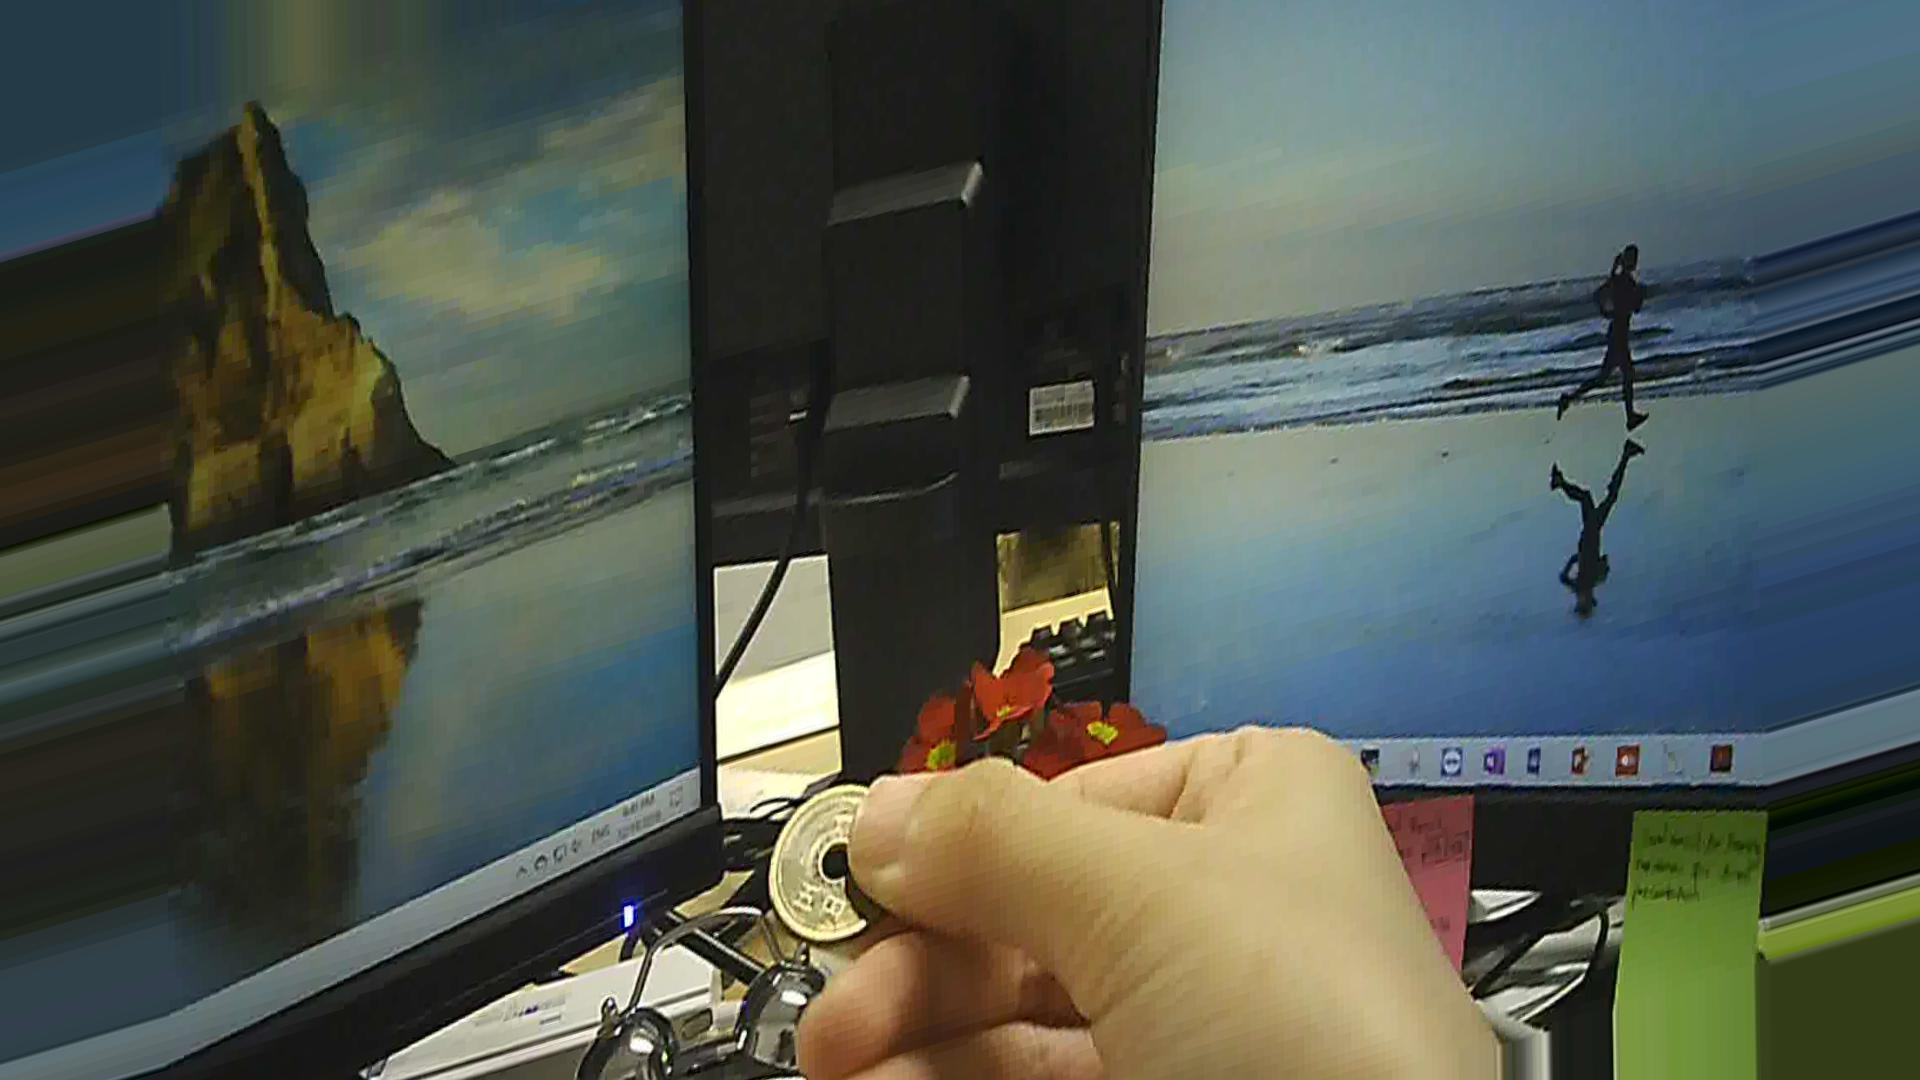5 Yen: (757, 779, 915, 934)
